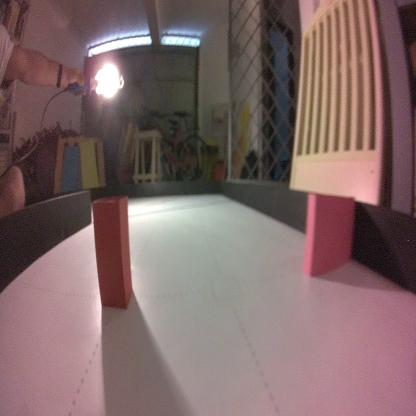magenta: (302, 191, 354, 282)
red: (91, 192, 133, 309)
